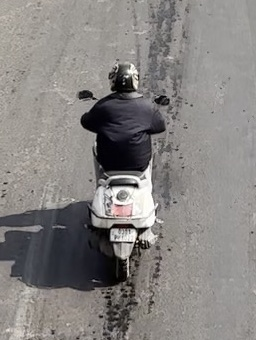BikeWithRider: (75, 59, 172, 283)
Helmet: (107, 60, 140, 95)
